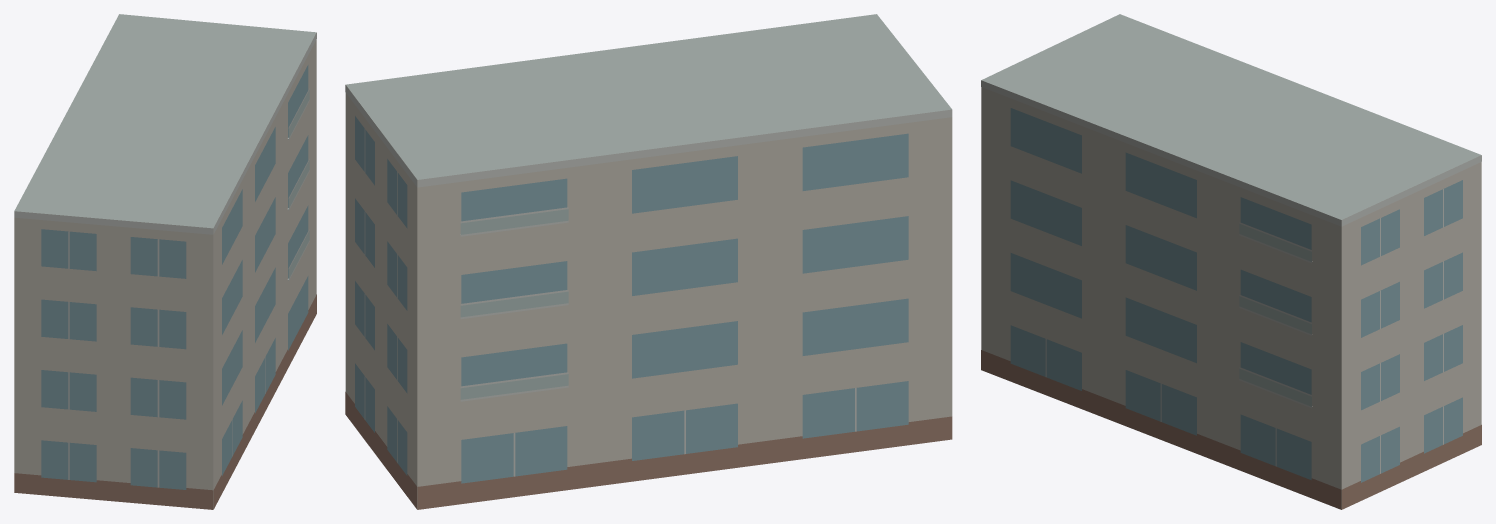
The model's file is survey-upis-32981877.glb.
The picture shows the model from 3 angles, left to right: view 1: azimuth 30°, elevation 25°; view 2: azimuth 150°, elevation 25°; view 3: azimuth 270°, elevation 25°; orthographic projection. The views are drawn at different scales.
Parts seen in each view (by area): view 1: survey-upis-32981877.tmp; view 2: survey-upis-32981877.tmp; view 3: survey-upis-32981877.tmp.
Boxes of the visible parts, x1=… form: survey-upis-32981877.tmp: x1=14, y1=14, x2=316, y2=509; survey-upis-32981877.tmp: x1=345, y1=14, x2=952, y2=509; survey-upis-32981877.tmp: x1=981, y1=14, x2=1481, y2=509.
Bounding box in the file's own units: 16.17 × 10.6 × 16.6.
